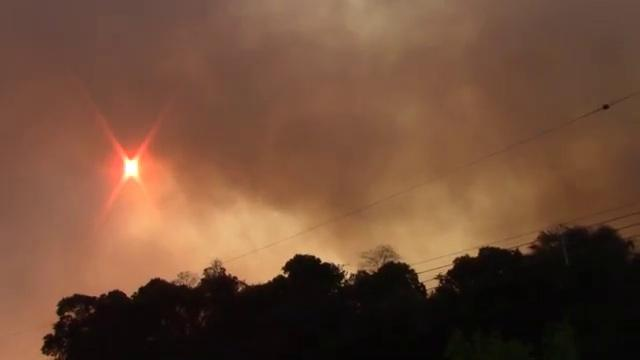smoke: (358, 167, 488, 245), (203, 205, 278, 260)
